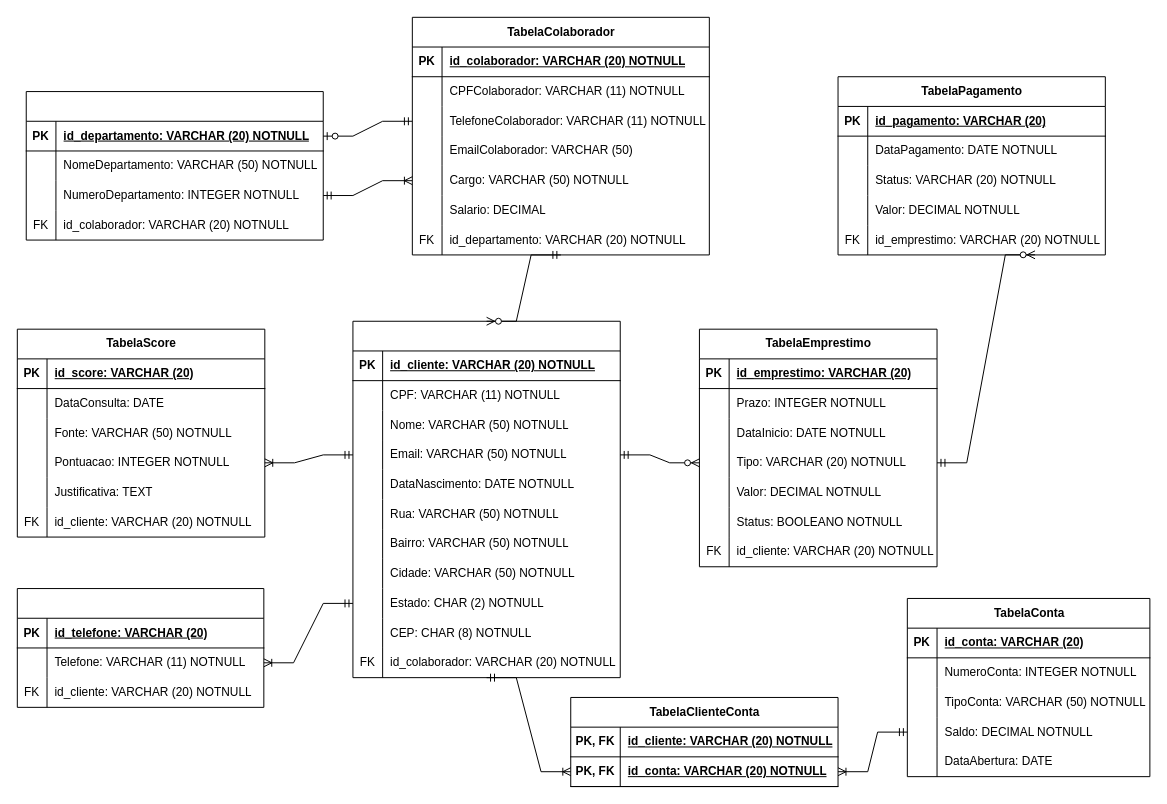
Some shapes in this 1167 by 804 pixel diagram are drawn without their labels. Here are the shapes that lost their labels. From the top down, the box of each, then its label:
(25, 91, 323, 240): TabelaDepartamento
(352, 320, 620, 678): TabelaCliente
(16, 588, 264, 707): TabelaTelefones
